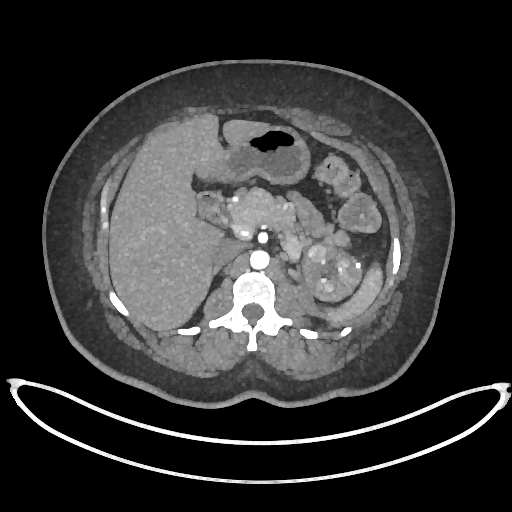Lesion: (308, 245, 329, 264)
